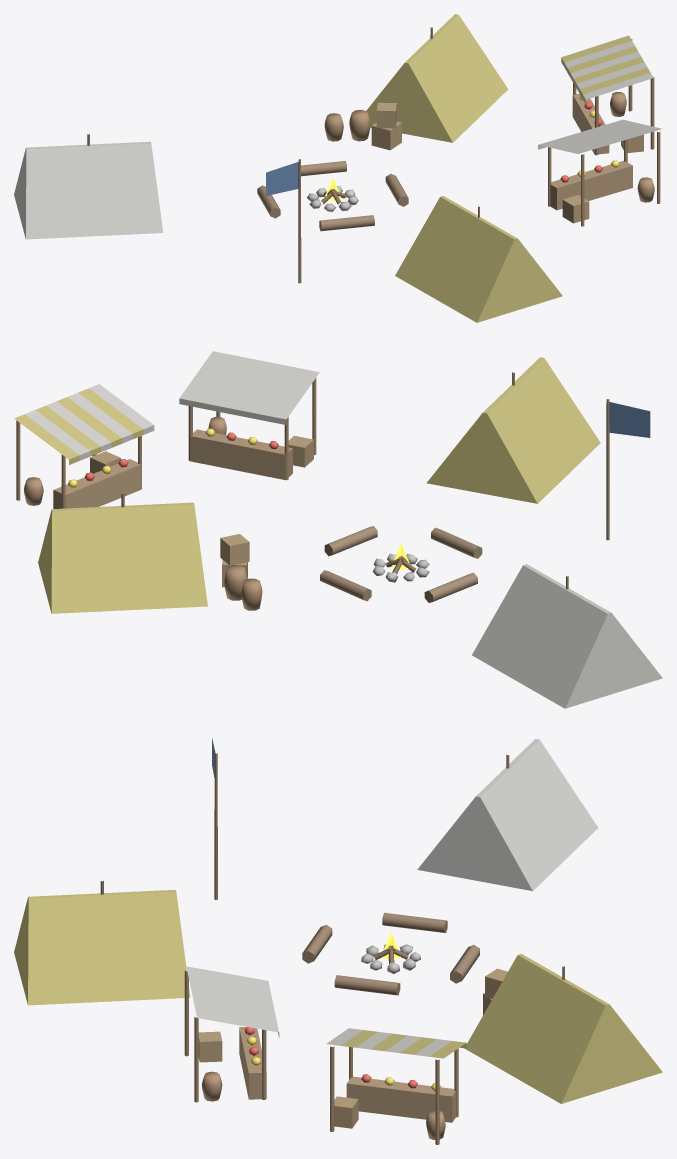
The model's file is struct_11_9.glb.
The picture shows the model from 3 angles, top to bottom: view 1: azimuth 30°, elevation 25°; view 2: azimuth 150°, elevation 25°; view 3: azimuth 270°, elevation 25°; orthographic projection. The views are drawn at different scales.
Visible parts, largest first — view 1: Landmarks; view 2: Landmarks; view 3: Landmarks.
Part boxes in pixels (left/top/right/bottom): Landmarks: left=14, top=14, right=662, bottom=322; Landmarks: left=14, top=351, right=662, bottom=708; Landmarks: left=14, top=738, right=662, bottom=1144.
Bounding box in the file's own units: 24.79 × 5.05 × 20.09.
